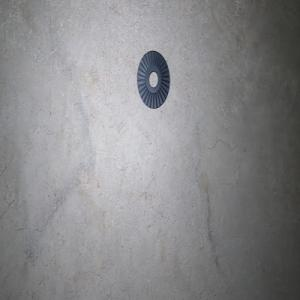Washer: (137, 50, 169, 108)
